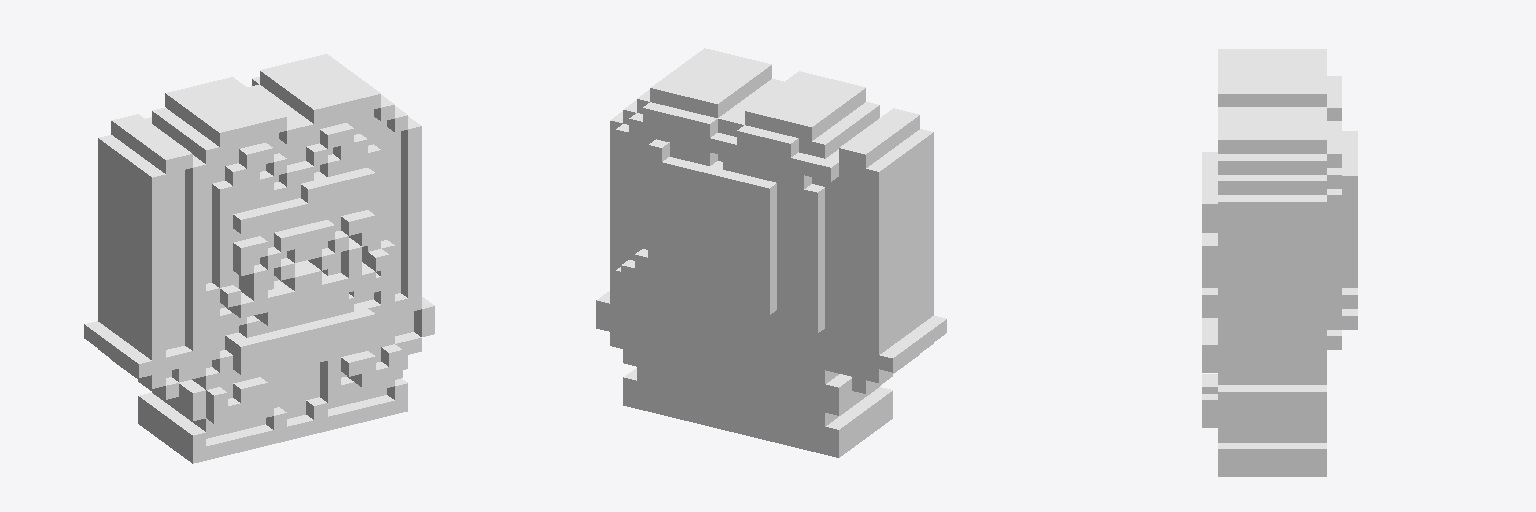
File: Icon_007_02-0-Icon-007-02.obj
The picture shows the model from 3 angles: view 1: azimuth 30°, elevation 25°; view 2: azimuth 150°, elevation 25°; view 3: azimuth 270°, elevation 25°; orthographic projection.
Parts seen in each view (by area): view 1: Icon-007-02; view 2: Icon-007-02; view 3: Icon-007-02.
Boxes of the visible parts, x1=… form: Icon-007-02: x1=84, y1=54, x2=434, y2=463; Icon-007-02: x1=596, y1=48, x2=946, y2=457; Icon-007-02: x1=1202, y1=49, x2=1357, y2=476.
Bounding box in the file's own units: 2.2 × 2.3 × 1.